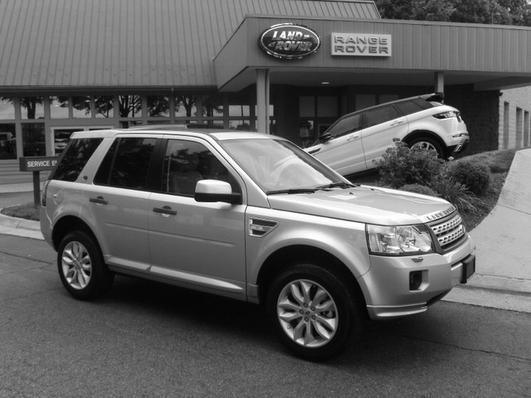car: (41, 130, 475, 361)
